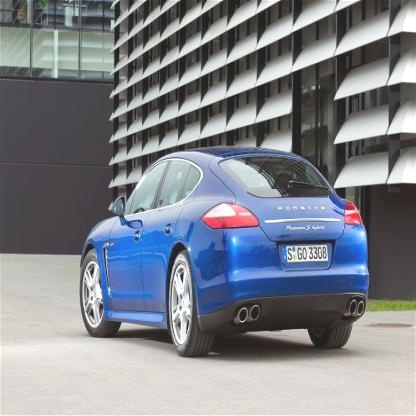Vehicle: (80, 146, 370, 360)
